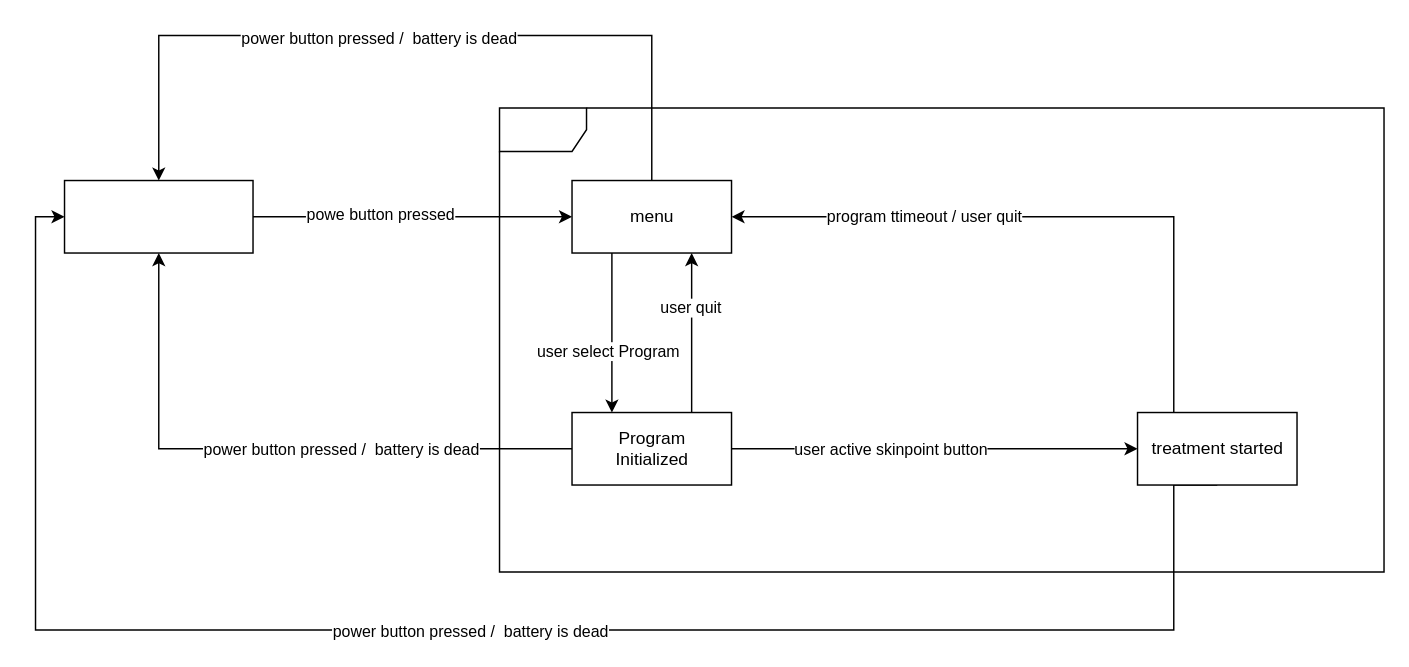
This 1409x667 diagram has some shape labels left out. Here are the shapes that lost their labels. From the top down, the centre of each, then its label:
At point (158, 216): "PowerOFF".
At point (941, 339): "Power On".
